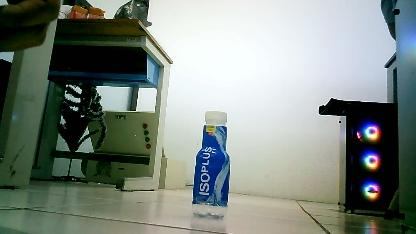Plastic Bottle: (184, 105, 244, 222)
